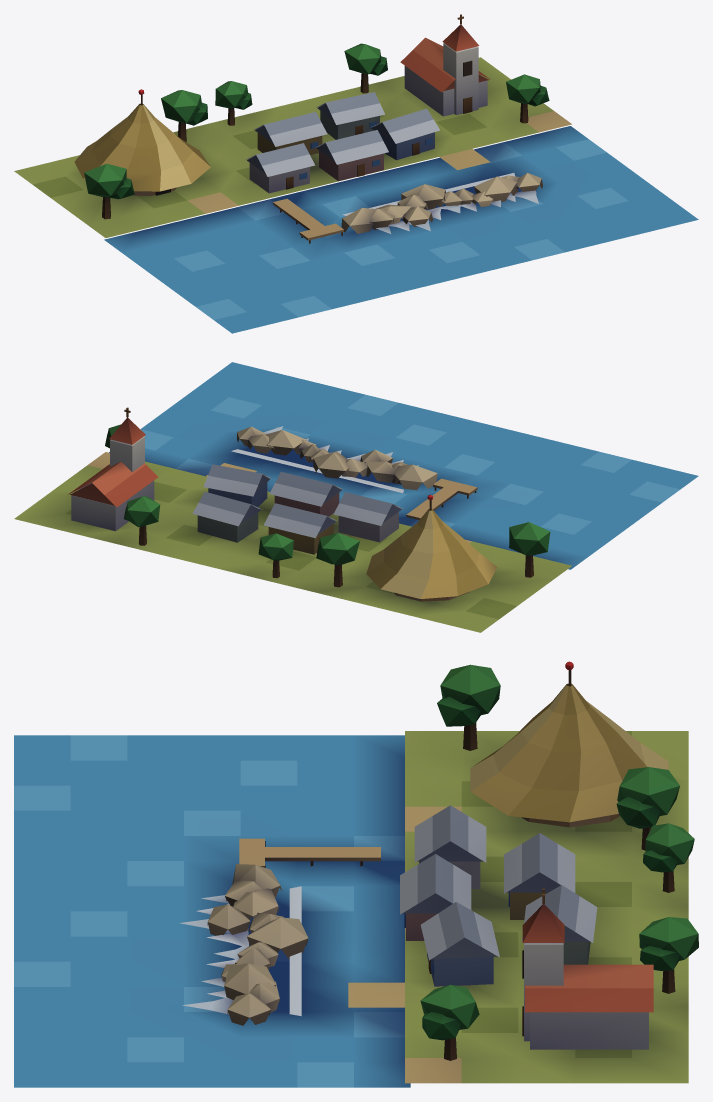
The model's file is puerto_ayacucho.glb.
The picture shows the model from 3 angles, top to bottom: view 1: azimuth 30°, elevation 25°; view 2: azimuth 150°, elevation 25°; view 3: azimuth 270°, elevation 25°; orthographic projection. The views are drawn at different scales.
Parts seen in each view (by area): view 1: rio, tierra, churuata, arboles, iglesia, raudales, casa_2, casa_1, casa_5, casa_3, casa_4, muelle; view 2: rio, tierra, churuata, iglesia, raudales, arboles, casa_5, casa_1, casa_4, casa_2, casa_3, muelle; view 3: rio, tierra, churuata, arboles, iglesia, raudales, casa_3, casa_4, casa_2, casa_1, casa_5, muelle.
Part boxes in pixels (x1,y1,x2,y2): rio: (104, 126, 698, 333); tierra: (14, 57, 571, 237); churuata: (74, 89, 210, 196); arboles: (84, 43, 549, 219); iglesia: (400, 14, 490, 116); raudales: (341, 173, 542, 233); casa_2: (315, 130, 388, 181); casa_1: (245, 143, 315, 193); casa_5: (316, 92, 384, 139); casa_3: (370, 108, 439, 160); casa_4: (253, 112, 327, 155); muelle: (273, 198, 343, 243); rio: (109, 362, 698, 569); tierra: (14, 452, 571, 632); churuata: (366, 494, 497, 601); iglesia: (68, 407, 157, 531); raudales: (231, 426, 437, 492); arboles: (105, 424, 550, 587); casa_5: (192, 491, 262, 542); casa_1: (333, 492, 403, 542); casa_4: (263, 503, 337, 554); casa_2: (269, 472, 343, 516); casa_3: (203, 464, 271, 507); muelle: (406, 478, 477, 519); rio: (14, 735, 410, 1087); tierra: (348, 731, 688, 1083); churuata: (470, 661, 668, 827); arboles: (420, 664, 698, 1060); iglesia: (522, 888, 653, 1049); raudales: (179, 864, 308, 1025); casa_3: (420, 902, 499, 986); casa_4: (504, 833, 575, 919); casa_2: (400, 854, 471, 940); casa_1: (414, 805, 486, 888); casa_5: (522, 885, 597, 964); muelle: (239, 838, 380, 867).
Bounding box in the file's own units: 84 × 18.19 × 69.05.
